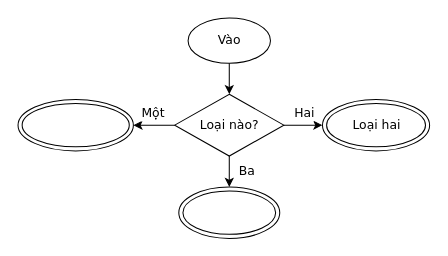
Some shapes in this 448 by 256 pixel diagram are drawn without their labels. Here are the shapes that lost their labels. From the top down, the centre of each, then its label:
At point 75,124: "Loại một".
At point 229,212: "Loại ba".
